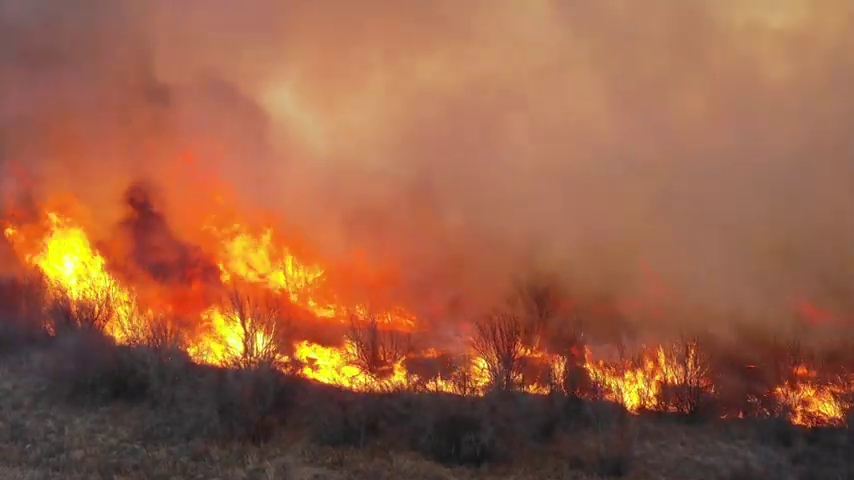forest_fire: (3, 185, 718, 411), (764, 363, 853, 425), (720, 410, 742, 414), (764, 410, 772, 413), (76, 324, 79, 326), (124, 267, 125, 269)
